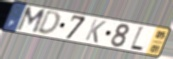7: (65, 14, 88, 41)
8: (109, 23, 131, 48)
D: (35, 10, 61, 37)
K: (83, 18, 108, 45)
L: (128, 25, 145, 53)
M: (14, 6, 48, 36)
